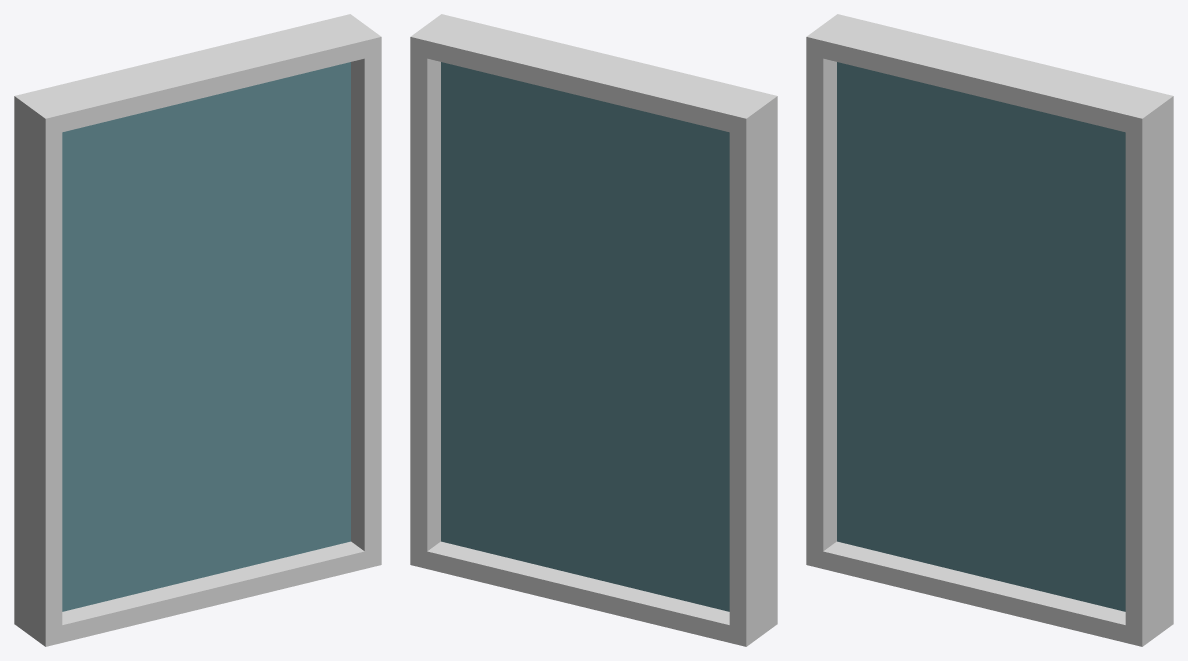
File: SM_MIE_ObservationWindow.fbx
3 renders of one model, left to right at view 1: azimuth 30°, elevation 25°; view 2: azimuth 150°, elevation 25°; view 3: azimuth 330°, elevation 25°, orthographic.
Visible parts, largest first — view 1: SM_MIE_ObservationWindow; view 2: SM_MIE_ObservationWindow; view 3: SM_MIE_ObservationWindow.
Boxes of the visible parts, x1,y1,x2,y2 form: SM_MIE_ObservationWindow: (14,14,381,646); SM_MIE_ObservationWindow: (410,14,777,646); SM_MIE_ObservationWindow: (806,14,1173,646).
Size of what is drawn, in the model's own units: 99.6 by 16 by 150.
